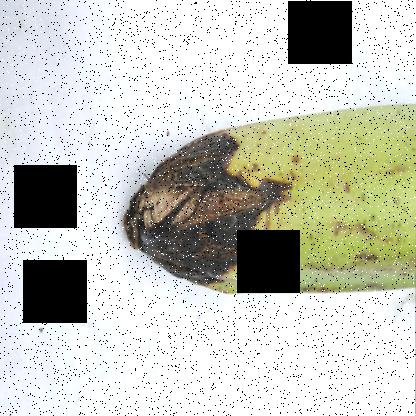rotten: (108, 114, 329, 338)
unripe: (272, 71, 415, 312)
